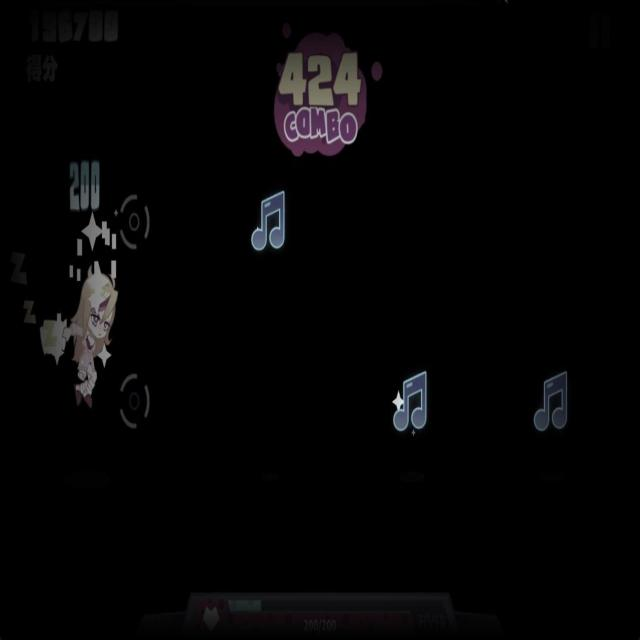Music note: (532, 364, 570, 434), (391, 367, 430, 434), (252, 186, 287, 254)
